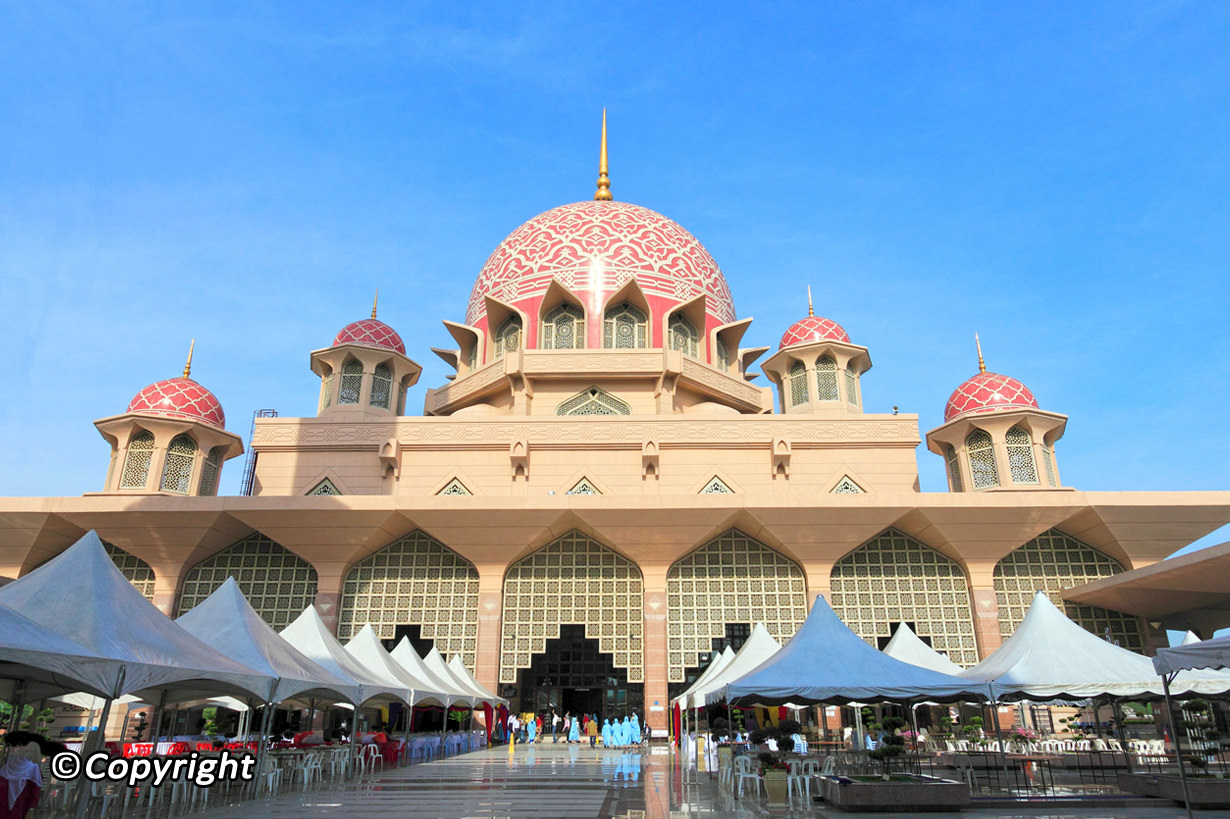Mosque: (66, 139, 1056, 645)
